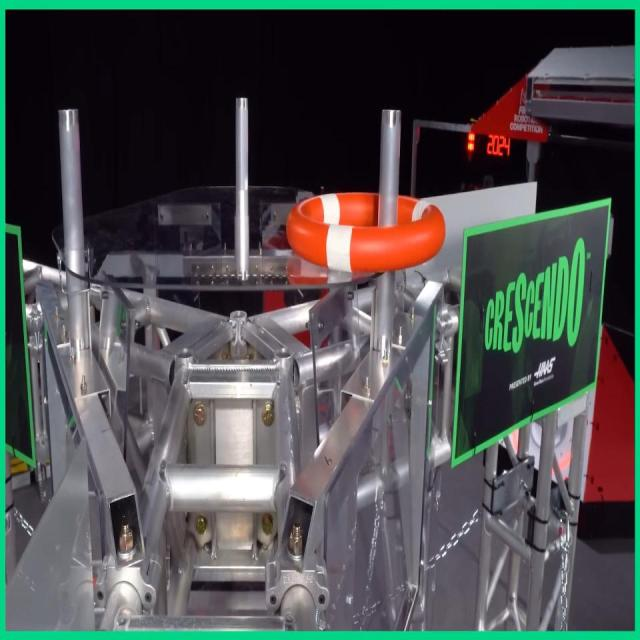note: (286, 191, 446, 274)
